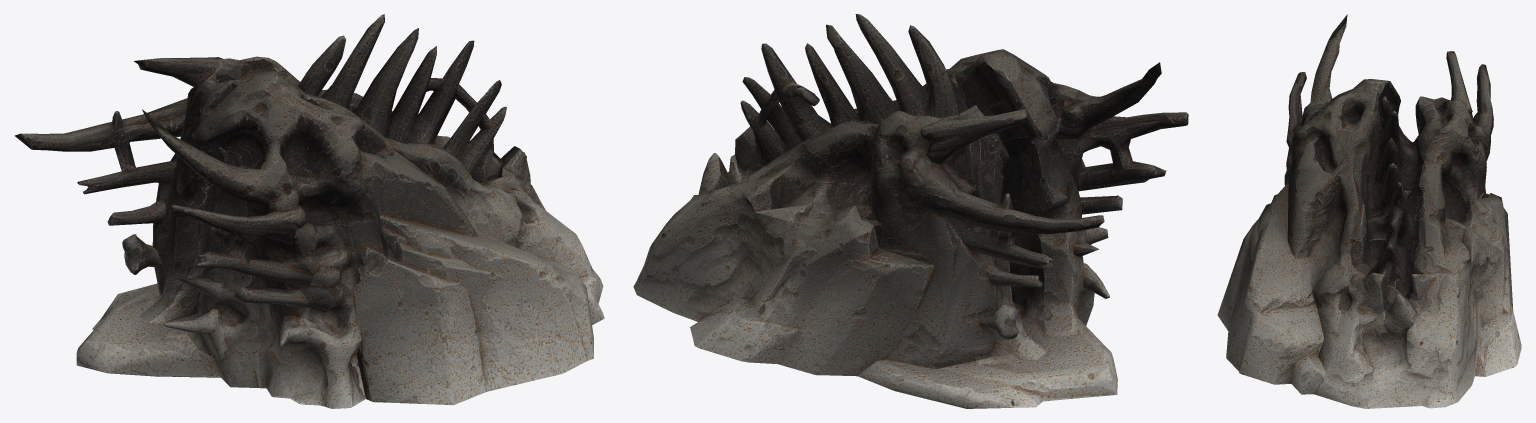
File: Dire_Melee.fbx
The picture shows the model from 3 angles, left to right: view 1: azimuth 30°, elevation 25°; view 2: azimuth 150°, elevation 25°; view 3: azimuth 270°, elevation 25°; orthographic projection. The views are drawn at different scales.
Parts seen in each view (by area): view 1: dire_melee; view 2: dire_melee; view 3: dire_melee.
Boxes of the visible parts, bbox=[...] form: dire_melee: bbox=[14, 14, 604, 408]; dire_melee: bbox=[633, 14, 1188, 408]; dire_melee: bbox=[1217, 14, 1521, 408].
Bounding box in the file's own units: 460 × 260 × 316.
